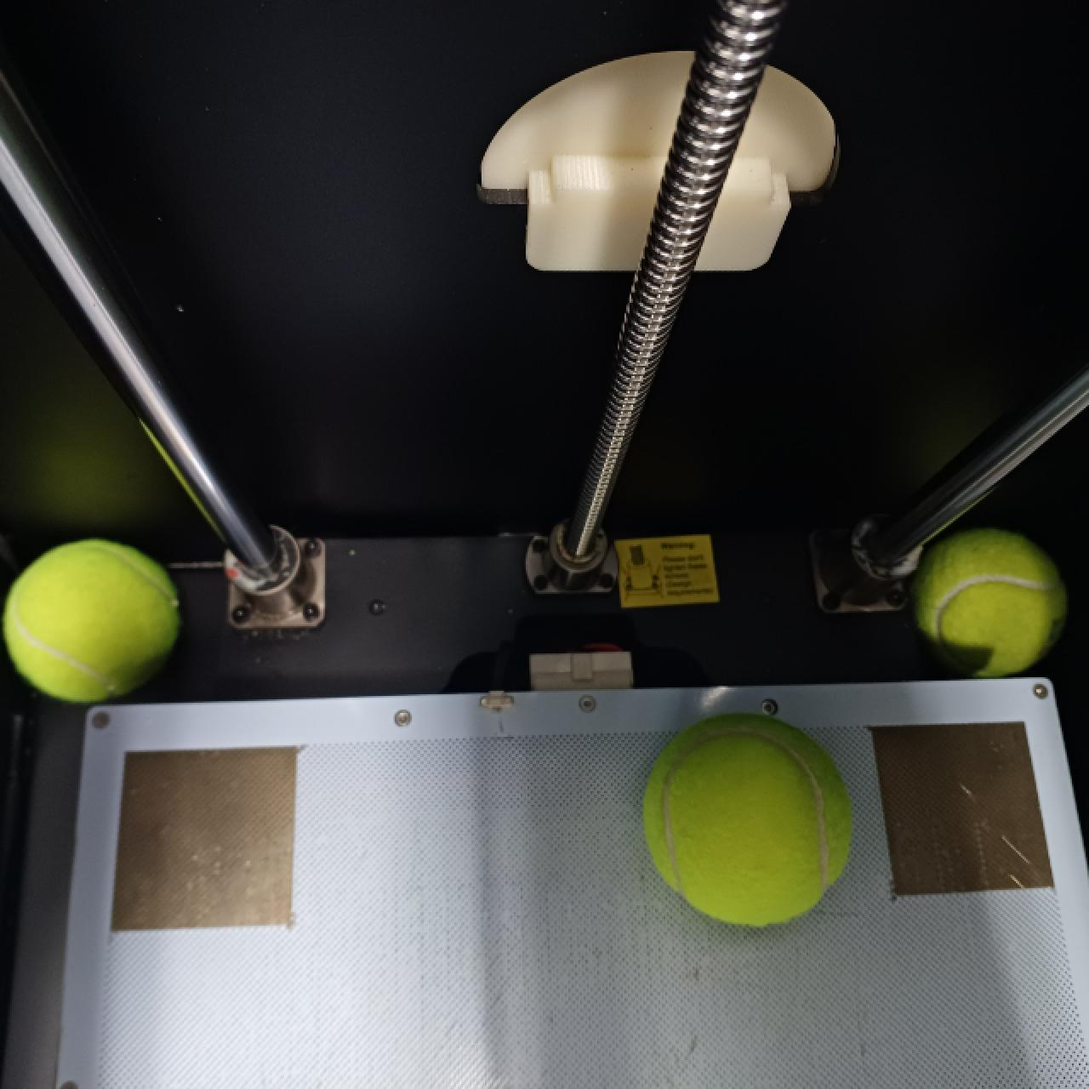tennis-ball: (640, 708, 859, 927), (1, 534, 186, 708), (903, 524, 1069, 682)
